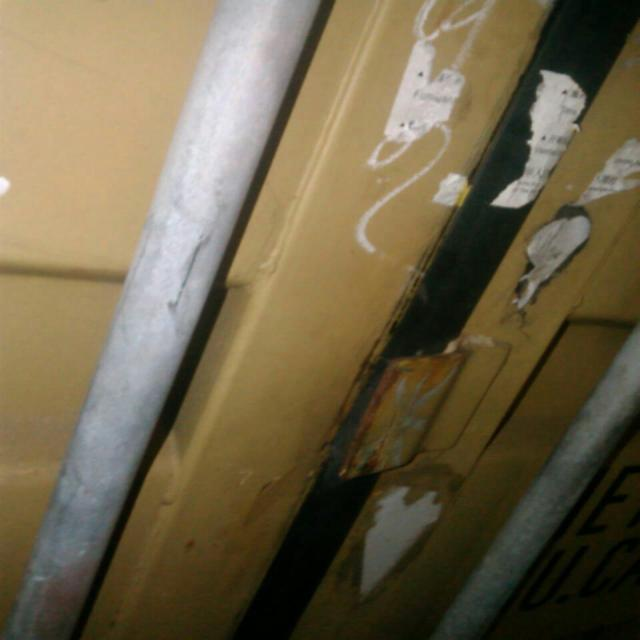rust: (304, 349, 472, 489)
